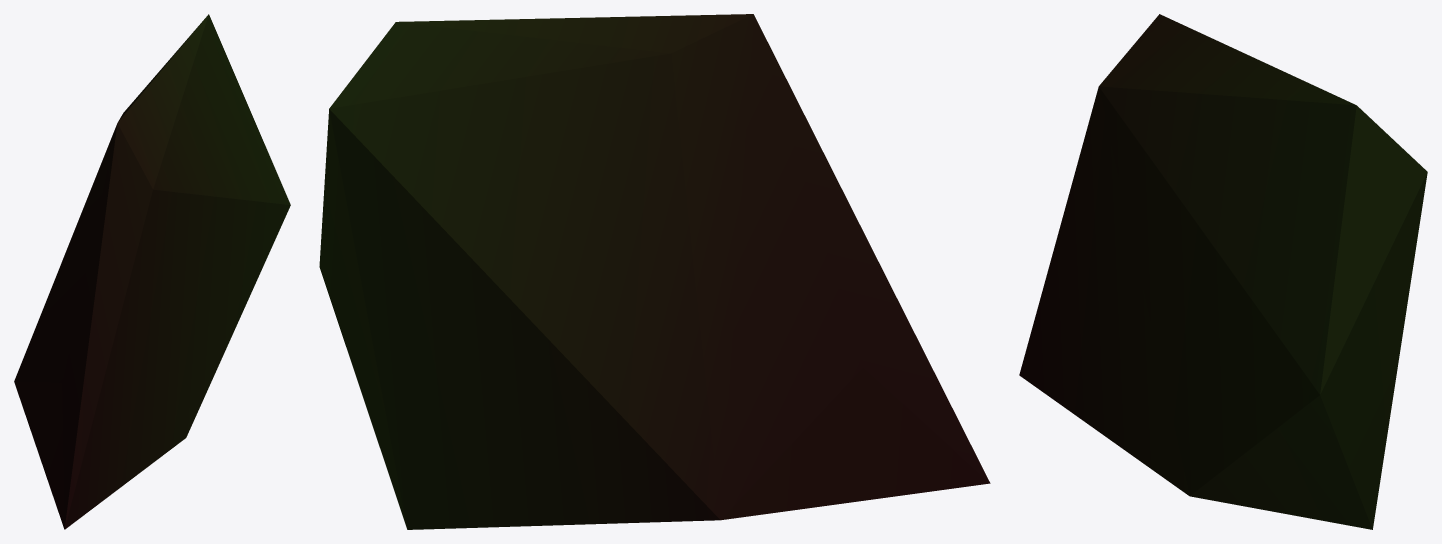
Rendered from tf_talus_chunk_7.glb.
The picture shows the model from 3 angles, left to right: view 1: azimuth 30°, elevation 25°; view 2: azimuth 150°, elevation 25°; view 3: azimuth 270°, elevation 25°; orthographic projection. The views are drawn at different scales.
Visible parts, largest first — view 1: tf_talus_chunk_7; view 2: tf_talus_chunk_7; view 3: tf_talus_chunk_7.
Boxes of the visible parts, left/top/right/bottom form: tf_talus_chunk_7: left=14, top=14, right=290, bottom=529; tf_talus_chunk_7: left=319, top=14, right=990, bottom=529; tf_talus_chunk_7: left=1019, top=14, right=1427, bottom=529.
Size of the model in its own units: 0.9459 by 0.9247 by 0.768.
